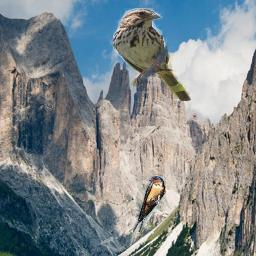Sparrow: (113, 8, 191, 101)
Swallow: (133, 176, 166, 232)
